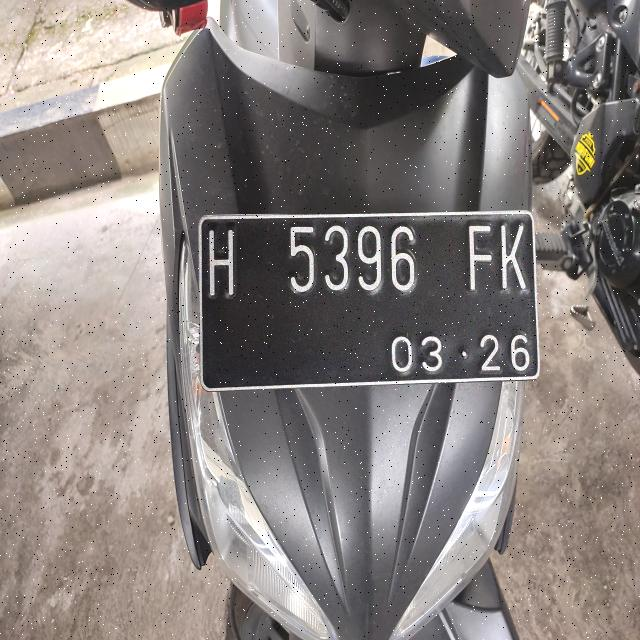plate: (200, 212, 538, 389)
